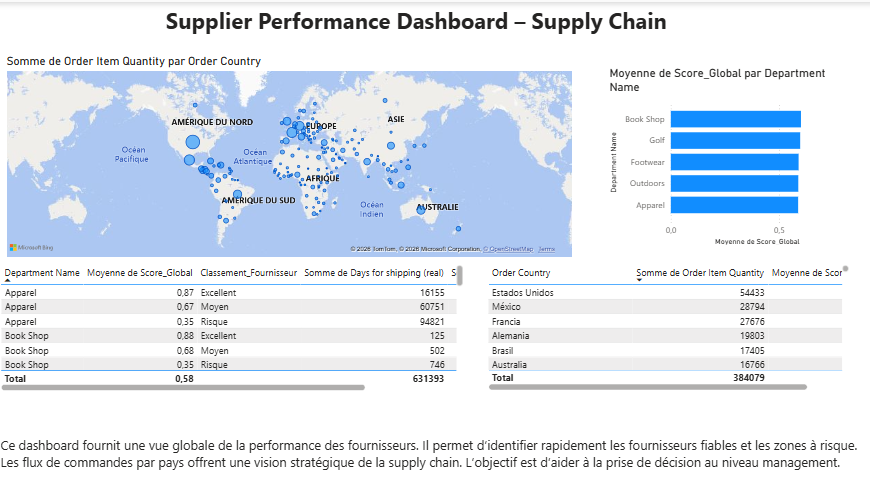

The page's visual inventory and layout, read from the dashboard file:
{"tool":"powerbi","page":{"name":"Vue direction","canvas":[1280,720],"ordinal":4},"visuals":[{"type":"textbox","box":[10.3,0,1198.8,78.4],"z":0},{"type":"barChart","fields":{"Category":["DataCoSupplyChainDataset.Department Name"],"Y":["Avg(DataCoSupplyChainDataset.Score_Global)"]},"box":[886.3,94.5,359.1,264.6],"z":1000},{"type":"tableEx","fields":{"Values":["DataCoSupplyChainDataset.Department Name","Avg(DataCoSupplyChainDataset.Score_Global)","DataCoSupplyChainDataset.Classement_Fournisseur","Sum(DataCoSupplyChainDataset.Days for shipping (real))","Sum(DataCoSupplyChainDataset.Late_delivery_risk)"]},"box":[0,377.9,683,192.9],"z":2000},{"type":"map","fields":{"Category":["DataCoSupplyChainDataset.Order Country"],"Size":["Sum(DataCoSupplyChainDataset.Order Item Quantity)"]},"box":[9.4,77.5,833.4,300.5],"z":3000},{"type":"textbox","box":[0,627.4,1279.4,92.6],"z":4000},{"type":"tableEx","fields":{"Values":["DataCoSupplyChainDataset.Order Country","Sum(DataCoSupplyChainDataset.Order Item Quantity)","Avg(DataCoSupplyChainDataset.Score_Global)"]},"box":[709.5,377.7,534.9,192.1],"z":4001}]}

Visuals, with their boxes in screenshot pixels (x1, y1, x2, y2), scaled from the page's 1280x720 canvas onto the 870x496 screenshot:
textbox: x1=7, y1=0, x2=822, y2=54
barChart - DataCoSupplyChainDataset.Department Name x Avg(DataCoSupplyChainDataset.Score_Global): x1=602, y1=65, x2=846, y2=247
tableEx - DataCoSupplyChainDataset.Department Name x Avg(DataCoSupplyChainDataset.Score_Global): x1=0, y1=260, x2=464, y2=393
map - DataCoSupplyChainDataset.Order Country x Sum(DataCoSupplyChainDataset.Order Item Quantity): x1=6, y1=53, x2=573, y2=260
textbox: x1=0, y1=432, x2=869, y2=495
tableEx - DataCoSupplyChainDataset.Order Country x Sum(DataCoSupplyChainDataset.Order Item Quantity): x1=482, y1=260, x2=846, y2=393
